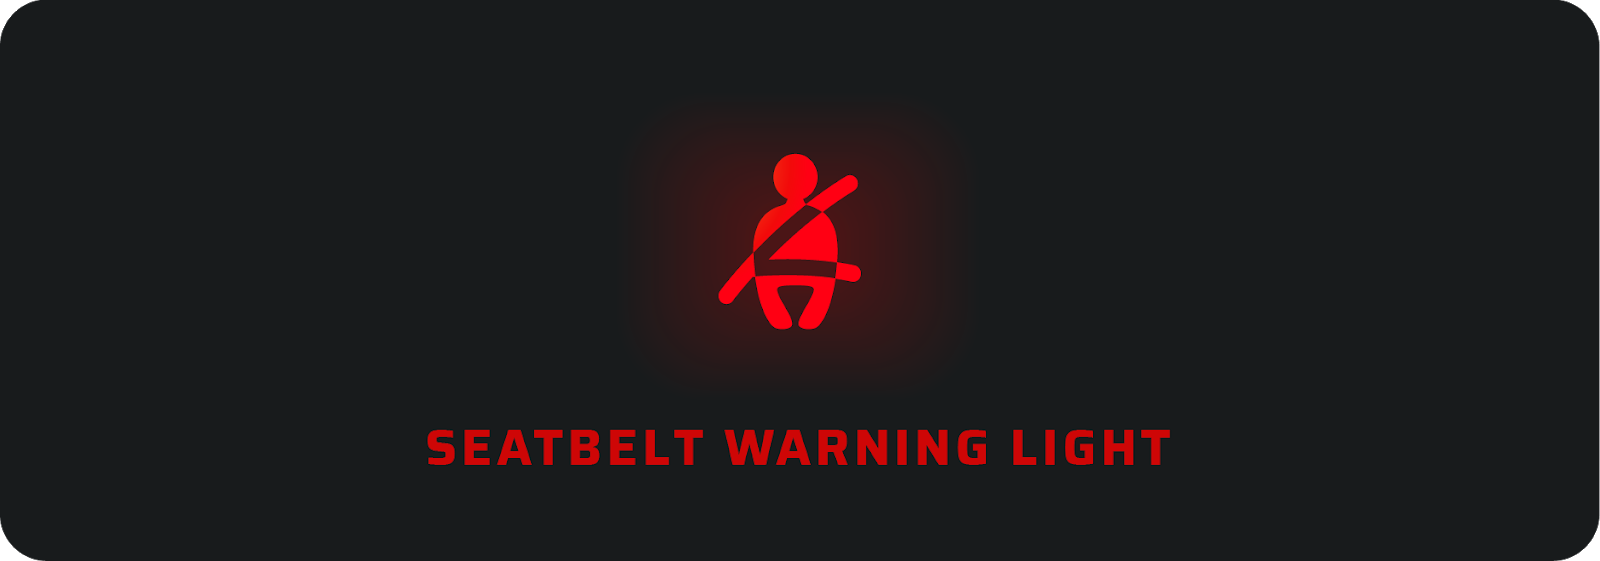ABS: (713, 141, 875, 339)
